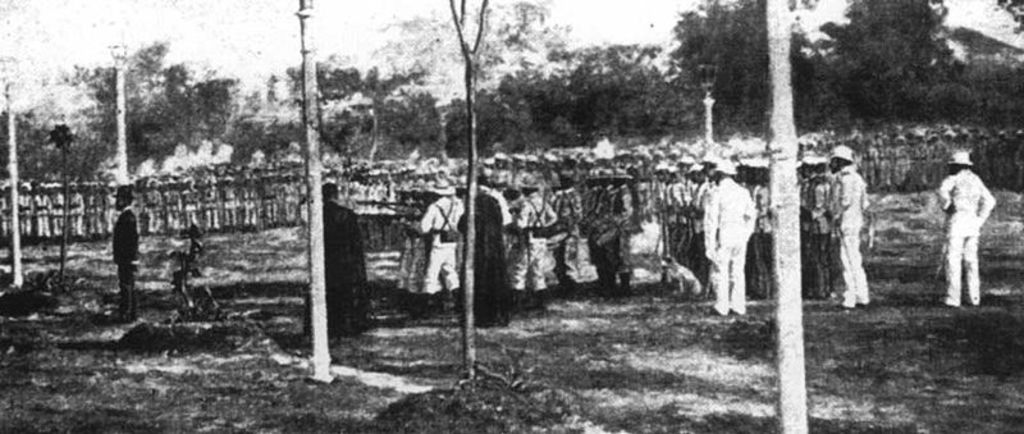Person: (0, 122, 1024, 338)
